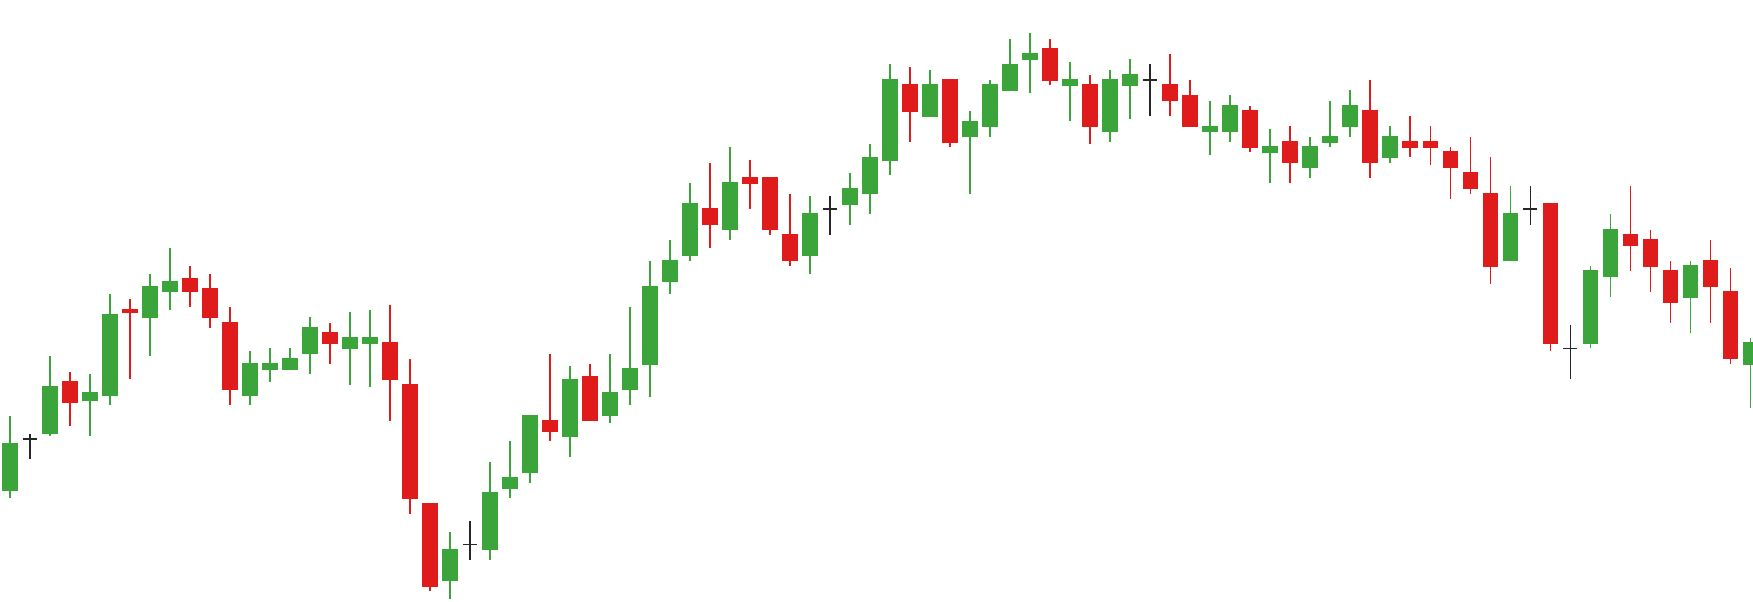sell: (879, 32, 1061, 142)
